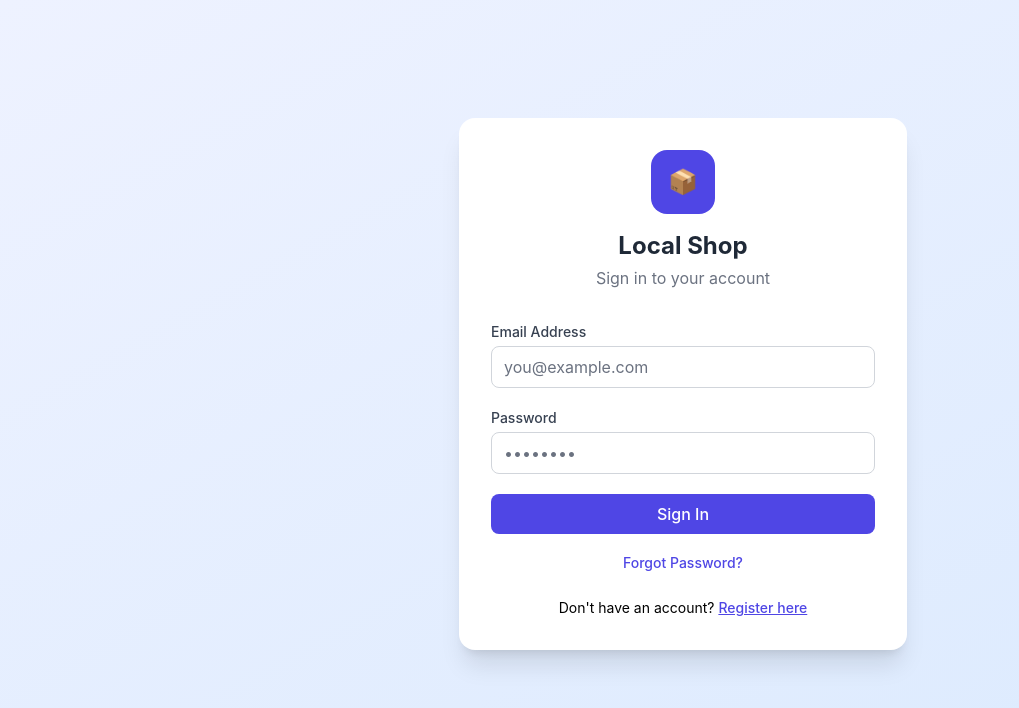
Test case: Login Page › shows validation error when email is empty
What coordinates should you click on to do the following:
click the button "Sign In"
I would click on:
 (683, 514)
Its box is 491,494 -> 875,534.
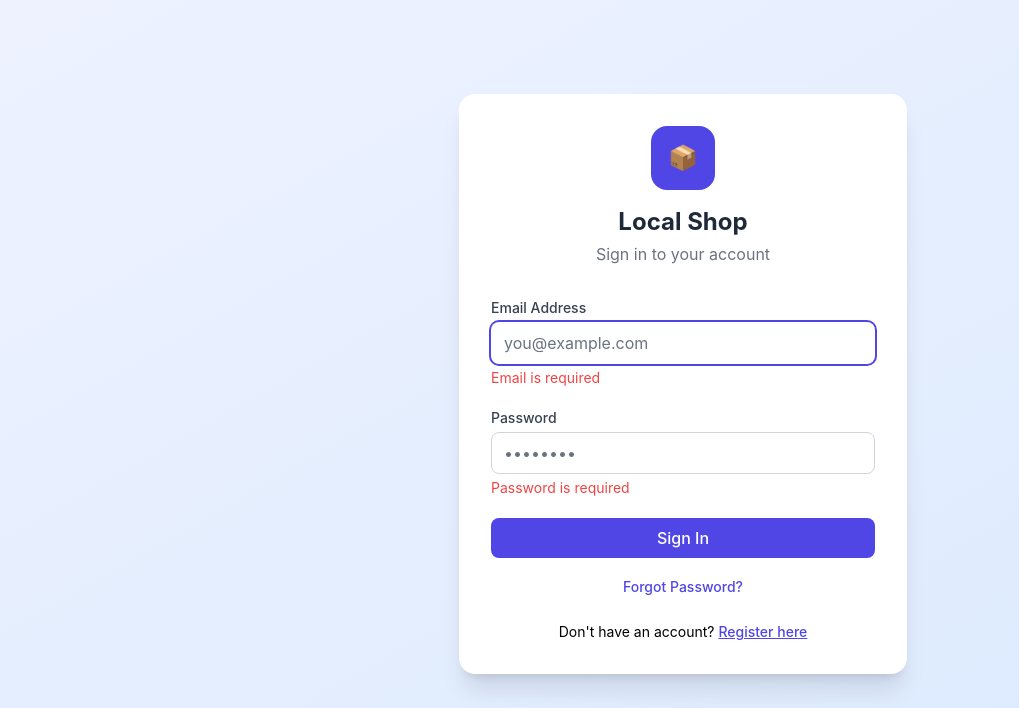
Now the text "Email is required" is shown, box 491,369 -> 600,386
